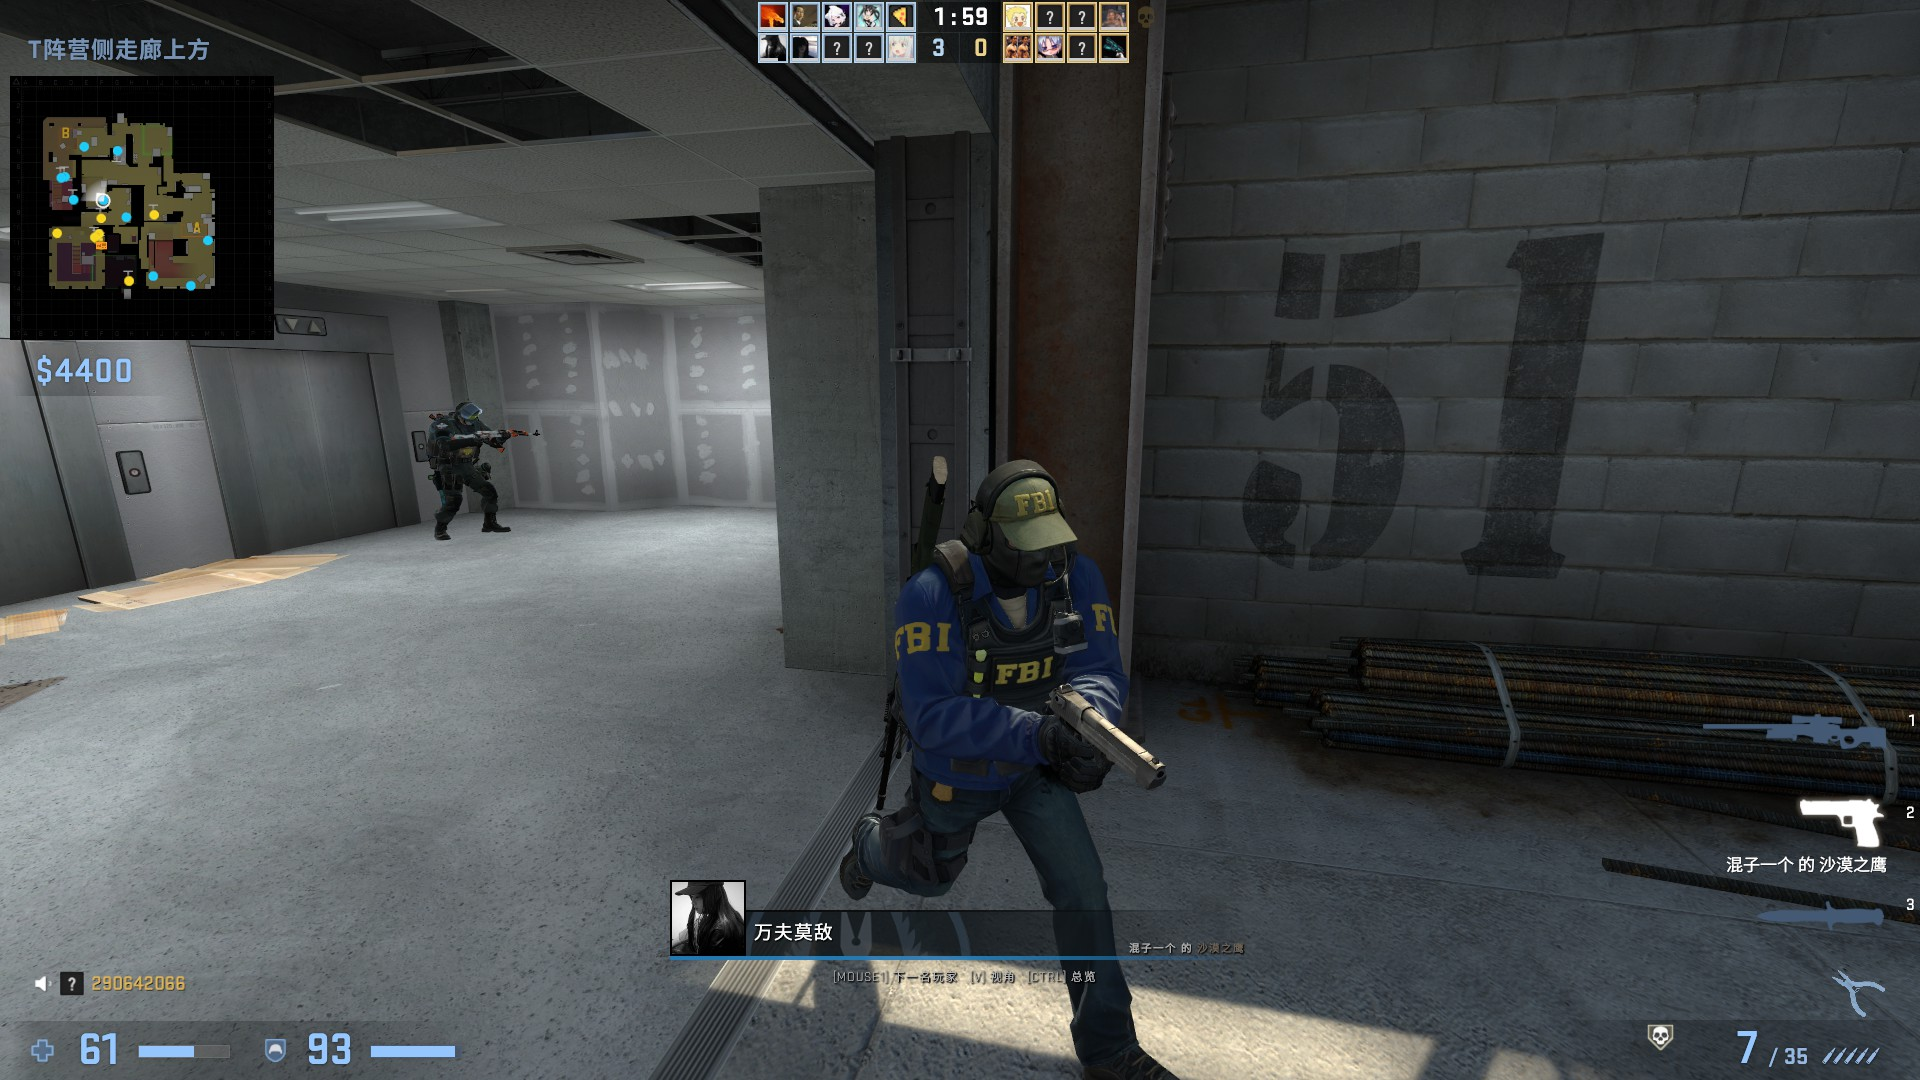head: (965, 461, 1073, 591), (453, 400, 482, 426)
